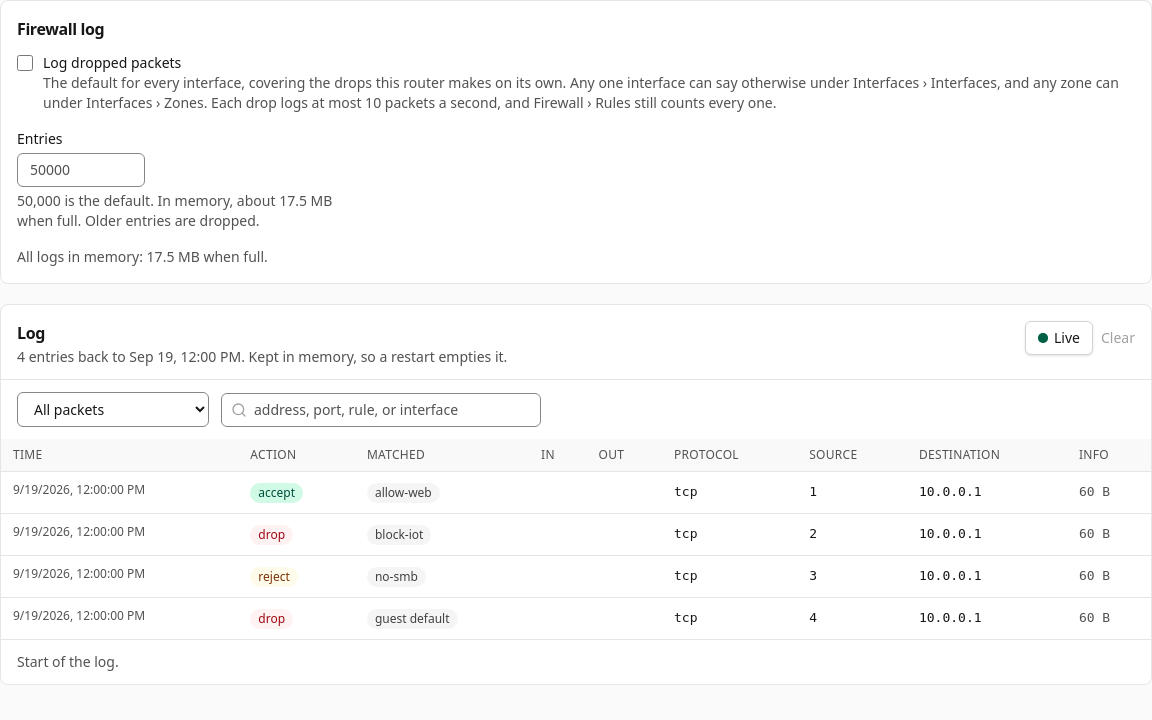
LogPage › narrows the chosen view further with the search
The width and height of the screenshot is (1152, 720).
Type "no-smb" into the search field with placeholder "address, port, rule, or interface". click: (381, 410)
box: [221,392,541,426]
Wait 250 ms
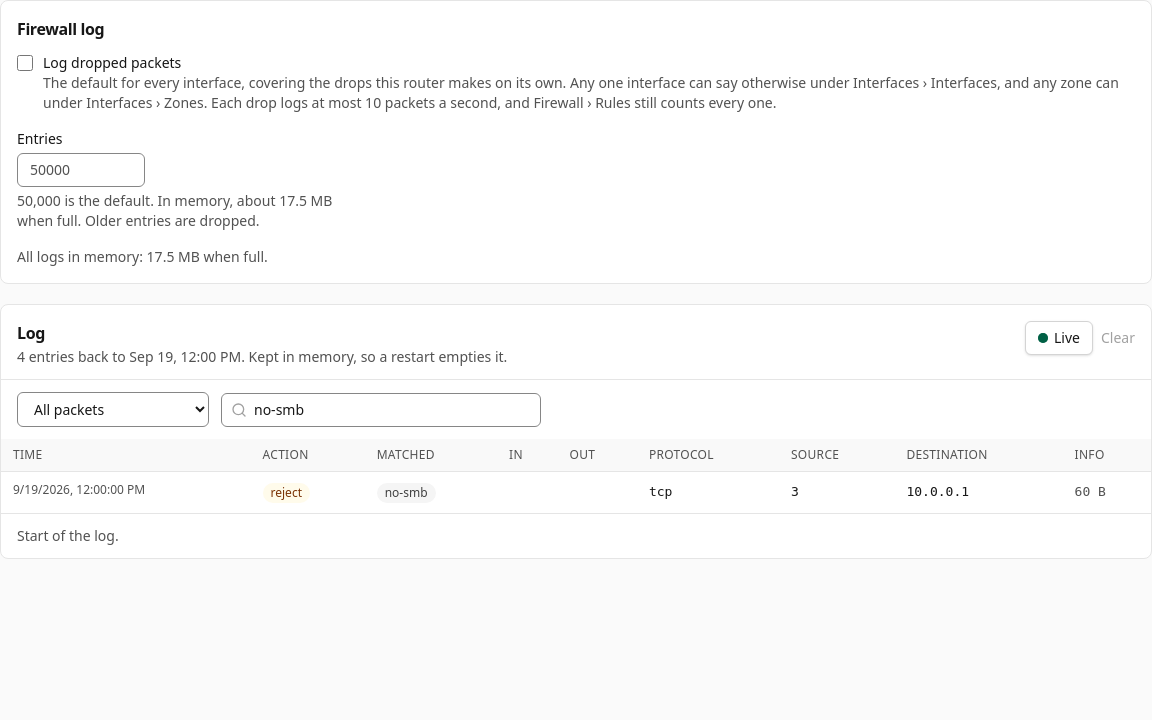
Select "Blocked" in the dropdown named "Show". click: (113, 410)
box: [17,392,209,427]
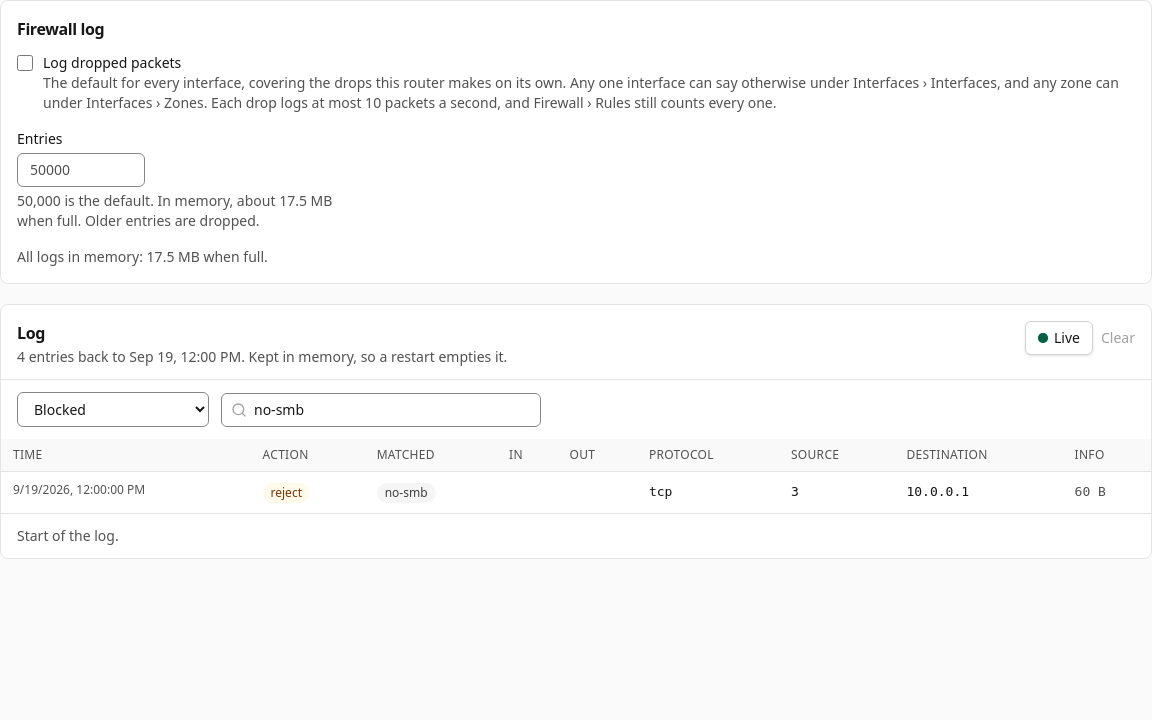
Replace the text in the search field with "allow-web". click: (381, 410)
box: [221,392,541,426]
Wait 250 ms
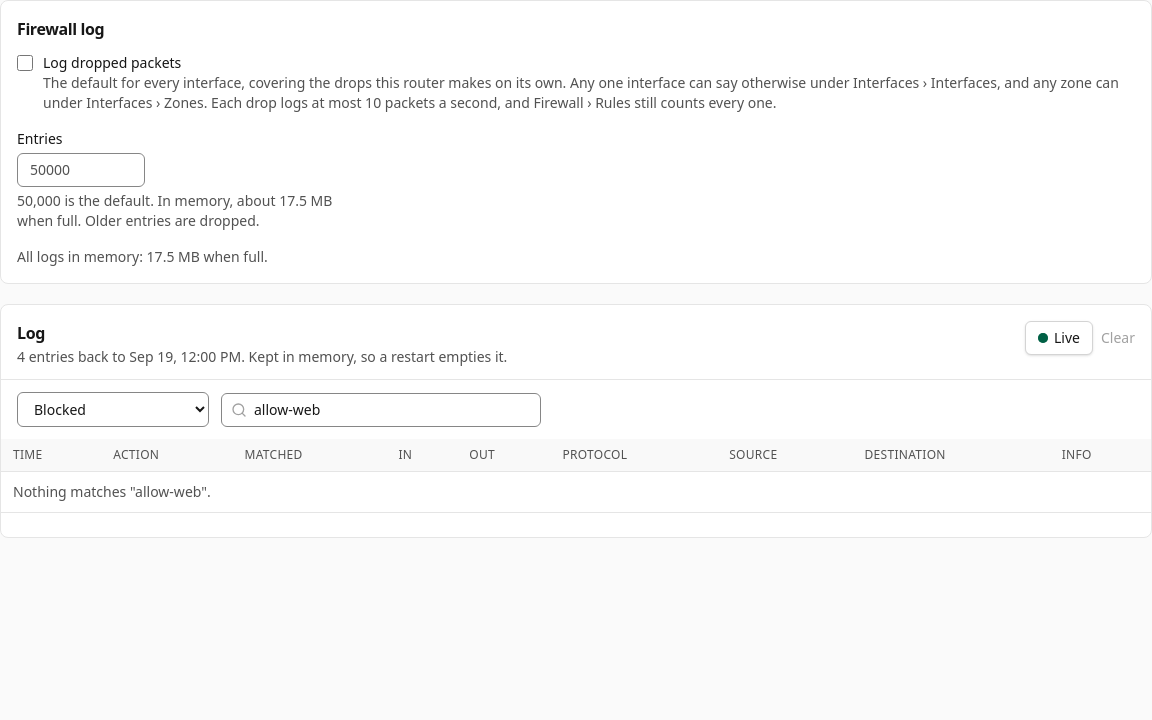
Expected: the row "Nothing matches \"allow-web\"." shows "Nothing matches \"allow-web\"", [13,482,211,501]
